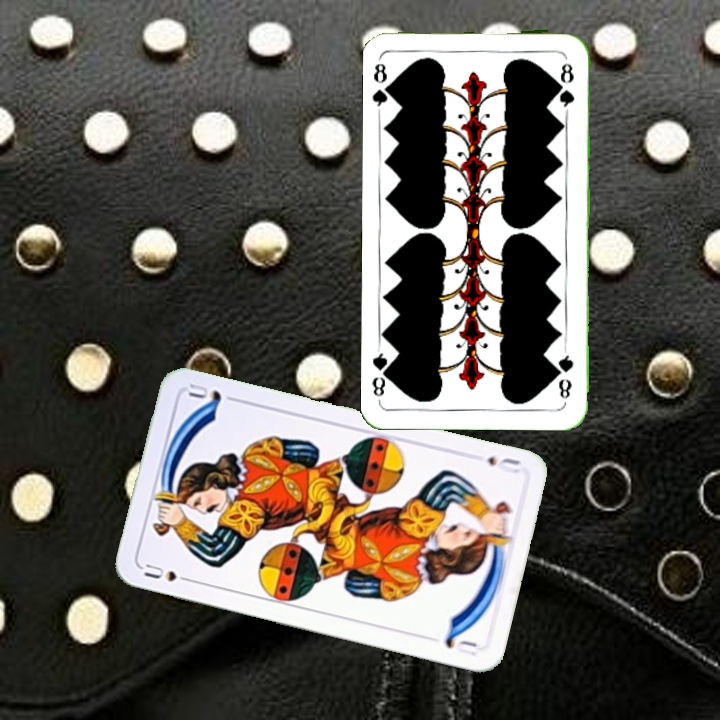G8: (369, 54, 396, 113), (554, 345, 576, 401)
SU: (140, 559, 197, 585), (483, 452, 523, 473)
